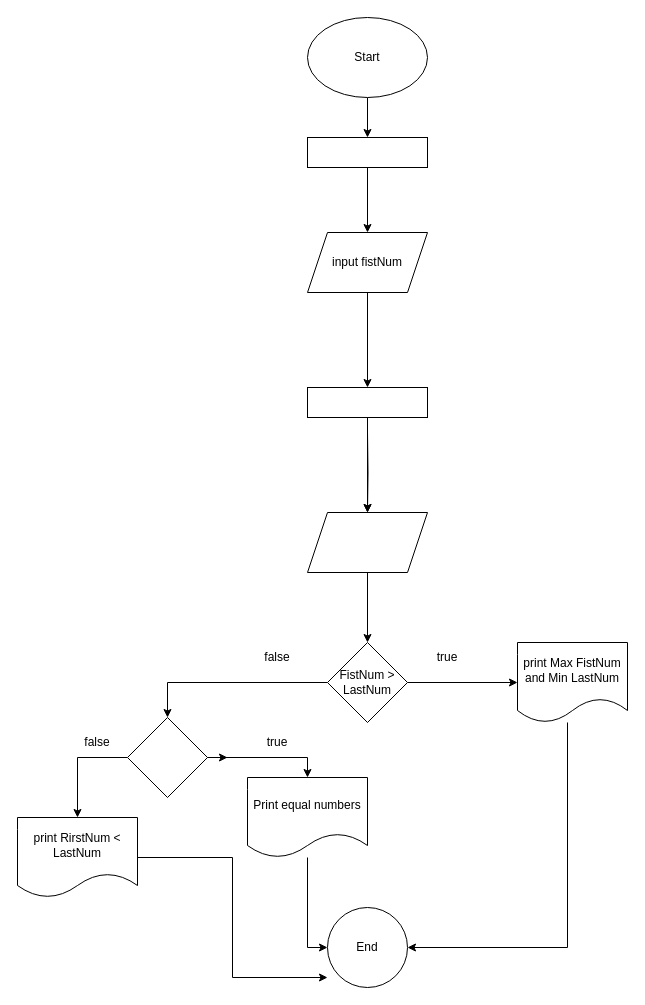
Some shapes in this 645 by 1005 pixel diagram are drawn without their labels. Here are the shapes that lost their labels. From the top down, the centre of each, then its label:
At [367,152]: "fist Num".
At [367,402]: "LastNum".
At [367,542]: "InputLastNum".
At [167,757]: "FirstNum = LastNum".
